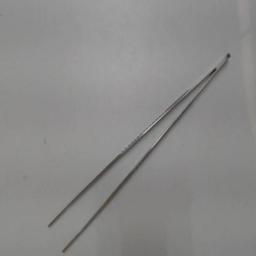DeBakey Dissector: (42, 48, 238, 256)
